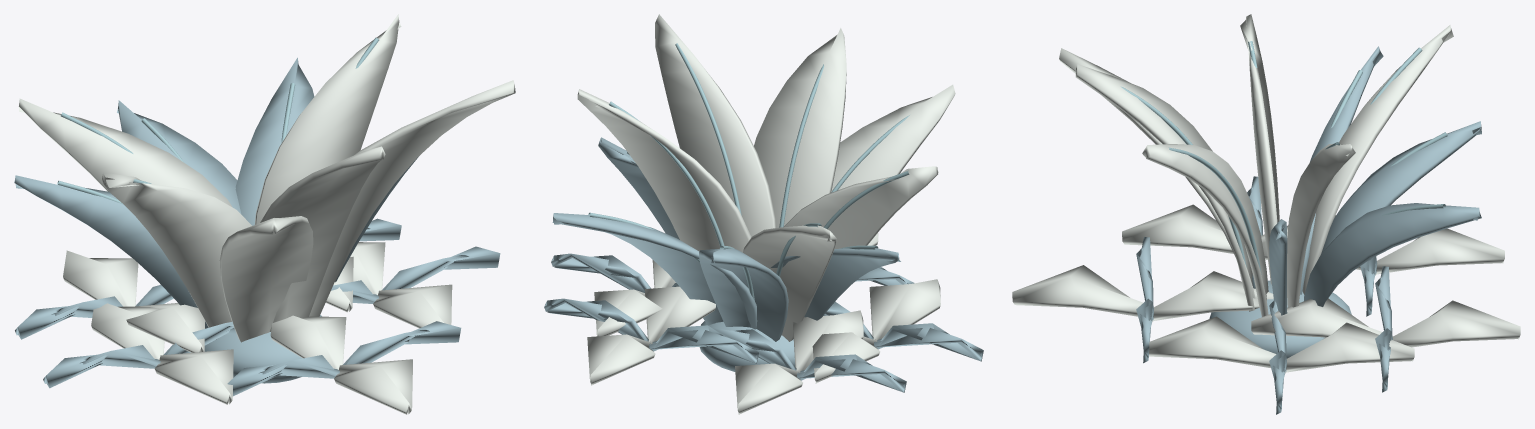
File: bio_mist_leaf_15_near.glb
3 views of the same model, side by side, from view 1: azimuth 30°, elevation 25°; view 2: azimuth 150°, elevation 25°; view 3: azimuth 270°, elevation 25° (orthographic). The views are drawn at different scales.
Visible parts, largest first — view 1: Cupped condensate leaf.008, Cupped condensate leaf.004, Cupped condensate leaf.007, Cupped condensate leaf.002, Cupped condensate leaf.001, Cupped condensate leaf.005, Low buttress leaf.009, Cupped condensate leaf.009, Low buttress leaf.005, Low buttress leaf.017, Cupped condensate leaf.003, Low buttress leaf.001 (+8 smaller); view 2: Cupped condensate leaf.002, Cupped condensate leaf.005, Cupped condensate leaf.008, Cupped condensate leaf.007, Cupped condensate leaf.004, Cupped condensate leaf.003, Cupped condensate leaf.001, Cupped condensate leaf.006, Low buttress leaf.017, Low buttress leaf.013, Low buttress leaf.005, Low buttress leaf.012 (+13 smaller); view 3: Low buttress leaf.001, Low buttress leaf.009, Cupped condensate leaf.003, Low buttress leaf.013, Cupped condensate leaf.001, Cupped condensate leaf.005, Cupped condensate leaf.002, Cupped condensate leaf.006, Cupped condensate leaf.008, Cupped condensate leaf.004, Low buttress leaf.005, Low buttress leaf.017 (+11 smaller).
Boxes of the visible parts, left/top/right/bottom form: Cupped condensate leaf.008: left=254, top=14, right=401, bottom=224; Cupped condensate leaf.004: left=101, top=172, right=251, bottom=339; Cupped condensate leaf.007: left=219, top=216, right=313, bottom=342; Cupped condensate leaf.002: left=260, top=146, right=385, bottom=331; Cupped condensate leaf.001: left=19, top=98, right=232, bottom=207; Cupped condensate leaf.005: left=309, top=80, right=515, bottom=316; Low buttress leaf.009: left=270, top=315, right=412, bottom=414; Cupped condensate leaf.009: left=14, top=175, right=208, bottom=328; Low buttress leaf.005: left=63, top=250, right=204, bottom=352; Low buttress leaf.017: left=91, top=299, right=233, bottom=404; Cupped condensate leaf.003: left=235, top=57, right=314, bottom=225; Low buttress leaf.001: left=350, top=242, right=452, bottom=328; Cupped condensate leaf.002: left=754, top=28, right=846, bottom=227; Cupped condensate leaf.005: left=655, top=14, right=776, bottom=236; Cupped condensate leaf.008: left=577, top=89, right=751, bottom=252; Cupped condensate leaf.007: left=831, top=84, right=955, bottom=191; Cupped condensate leaf.004: left=783, top=166, right=938, bottom=248; Cupped condensate leaf.003: left=552, top=213, right=757, bottom=329; Cupped condensate leaf.001: left=743, top=225, right=836, bottom=341; Cupped condensate leaf.006: left=699, top=248, right=788, bottom=341; Low buttress leaf.017: left=812, top=279, right=940, bottom=383; Low buttress leaf.013: left=587, top=286, right=715, bottom=385; Low buttress leaf.005: left=735, top=310, right=863, bottom=414; Low buttress leaf.012: left=544, top=298, right=758, bottom=363; Low buttress leaf.001: left=1149, top=316, right=1414, bottom=373; Low buttress leaf.009: left=1012, top=265, right=1273, bottom=321; Cupped condensate leaf.003: left=1304, top=203, right=1481, bottom=306; Low buttress leaf.013: left=1251, top=298, right=1520, bottom=347; Cupped condensate leaf.001: left=1302, top=25, right=1453, bottom=294; Cupped condensate leaf.005: left=1142, top=144, right=1268, bottom=316; Cupped condensate leaf.002: left=1075, top=64, right=1254, bottom=311; Cupped condensate leaf.006: left=1321, top=121, right=1481, bottom=253; Cupped condensate leaf.008: left=1287, top=143, right=1355, bottom=307; Cupped condensate leaf.004: left=1240, top=14, right=1279, bottom=284; Low buttress leaf.005: left=1261, top=225, right=1504, bottom=275; Low buttress leaf.017: left=1122, top=204, right=1389, bottom=260.
Size of the model in its own units: 2.22 by 1.34 by 2.09.
